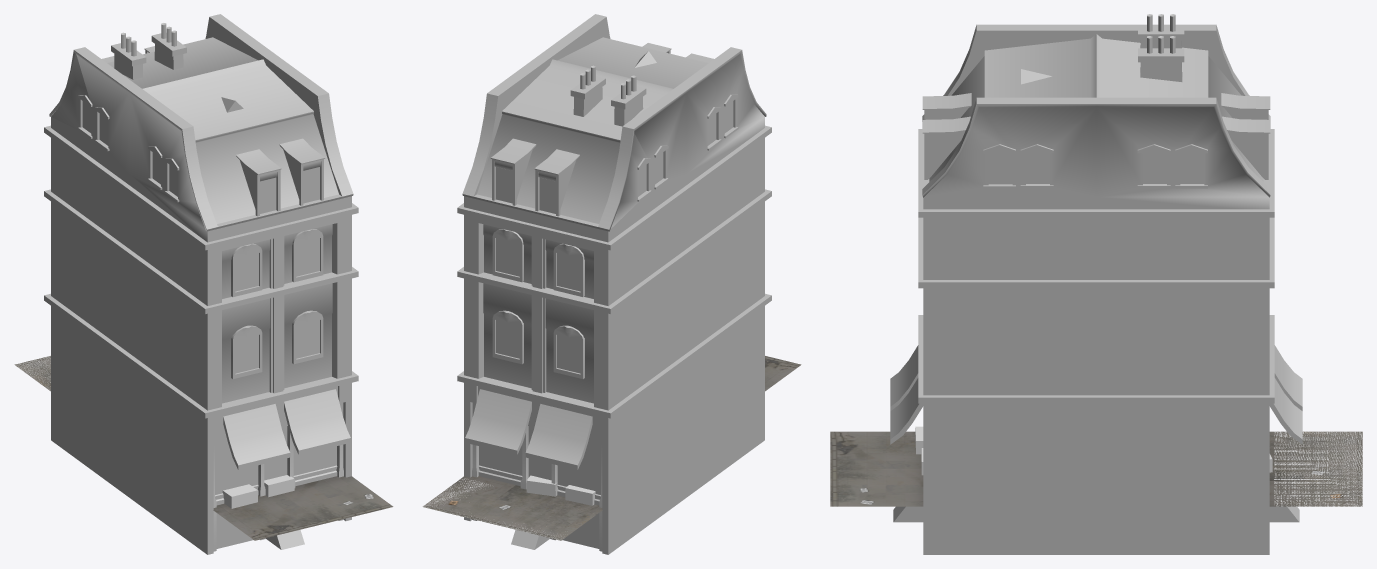
3 renders of one model, left to right at view 1: azimuth 30°, elevation 25°; view 2: azimuth 150°, elevation 25°; view 3: azimuth 270°, elevation 25°, orthographic. The views are drawn at different scales.
Visible parts, largest first — view 1: _07_01_lod0, ground, fc_feedback_trade_1, fc_feedback_door_1; view 2: _07_01_lod0, ground, fc_feedback_door_0, fc_feedback_trade_0; view 3: _07_01_lod0, ground, FeedbackBlocker.
Boxes of the visible parts, box(x1,y1,x2,y2) form: _07_01_lod0: box(44, 14, 358, 554); ground: box(14, 356, 393, 540); fc_feedback_trade_1: box(222, 484, 257, 508); fc_feedback_door_1: box(264, 475, 294, 497); _07_01_lod0: box(457, 14, 771, 554); ground: box(423, 356, 801, 540); fc_feedback_door_0: box(526, 475, 557, 496); fc_feedback_trade_0: box(565, 485, 595, 505); _07_01_lod0: box(890, 14, 1302, 554); ground: box(830, 431, 1362, 506); FeedbackBlocker: box(1274, 431, 1362, 506).
Bounding box in the file's own units: 1.11 × 2.97 × 3.
